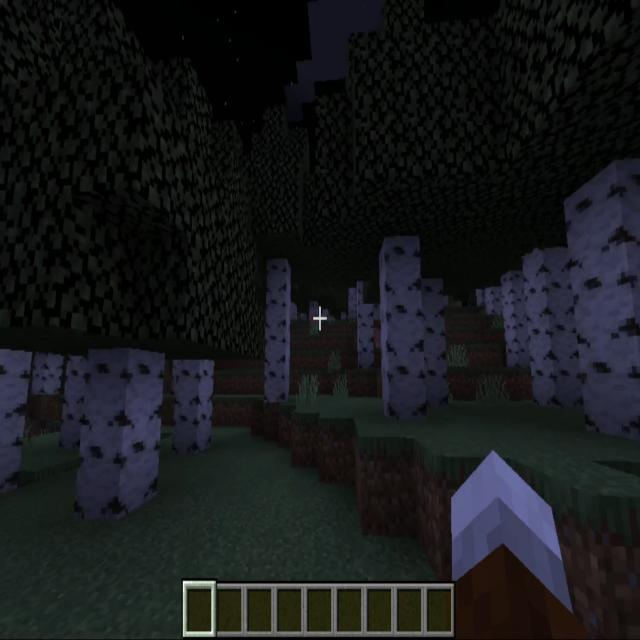Pig: (371, 324, 386, 349), (308, 313, 321, 326)
